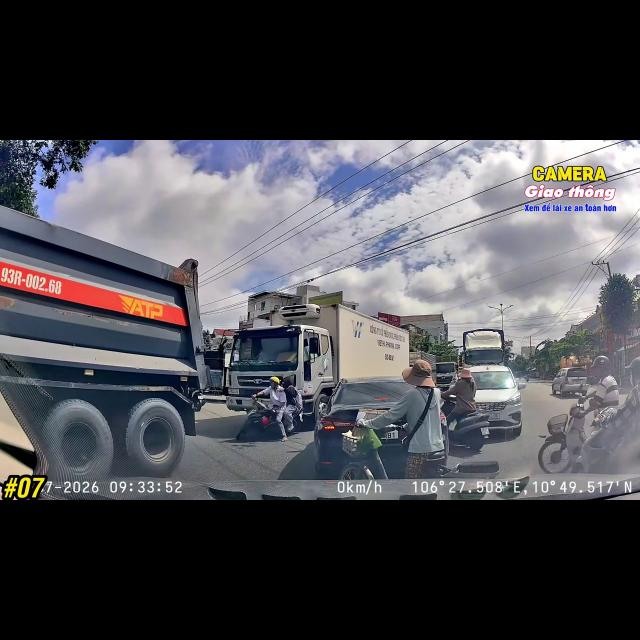car: (314, 377, 413, 478), (469, 365, 525, 436), (552, 368, 587, 397)
motorcycle: (538, 396, 586, 473), (570, 407, 623, 473), (236, 399, 280, 440), (448, 408, 489, 450)
truck: (0, 207, 209, 480), (227, 304, 408, 418), (410, 351, 457, 389), (462, 329, 504, 367), (203, 349, 230, 395), (436, 362, 457, 388)
